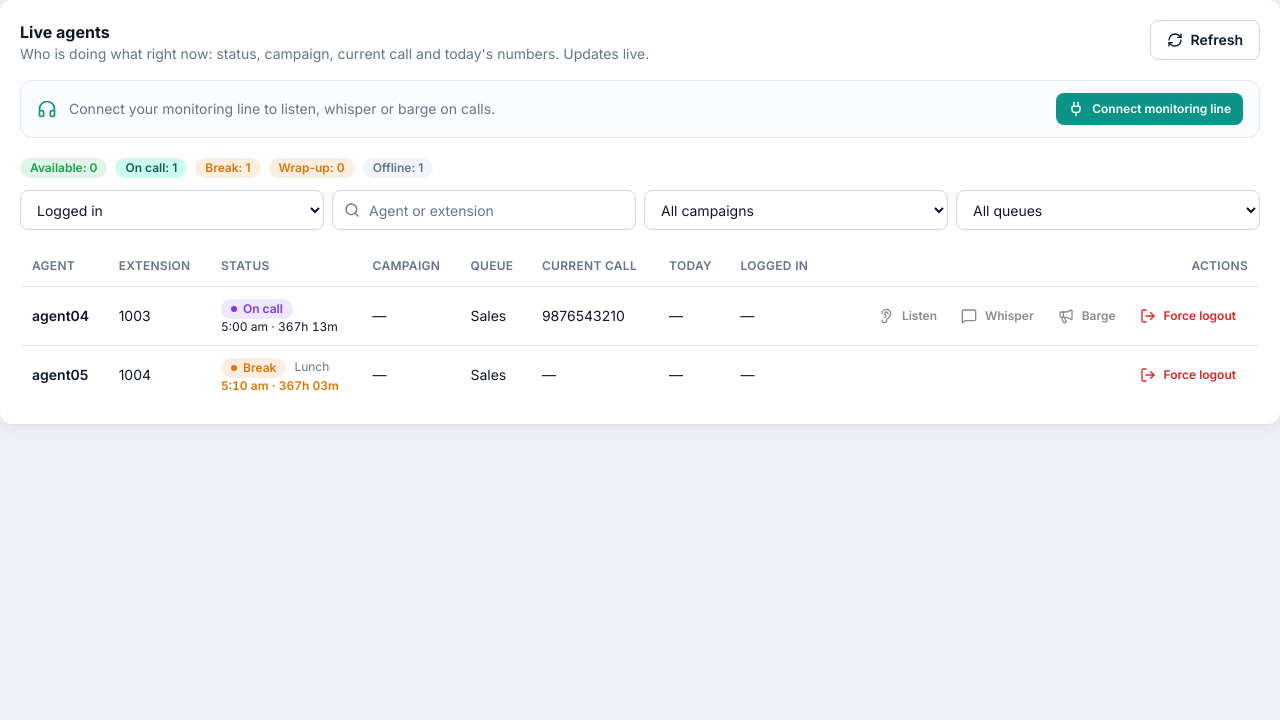
Test: Live Agents › Force logout: confirm, then the agent is taken offline; the server reason shows if refused
The image size is (1280, 720).
expect the text "agent04" is shown: met, box [32,306,95,326]
Select "All agents" in the dropdown named "Show" at [172, 210], box [20,190,324,230]
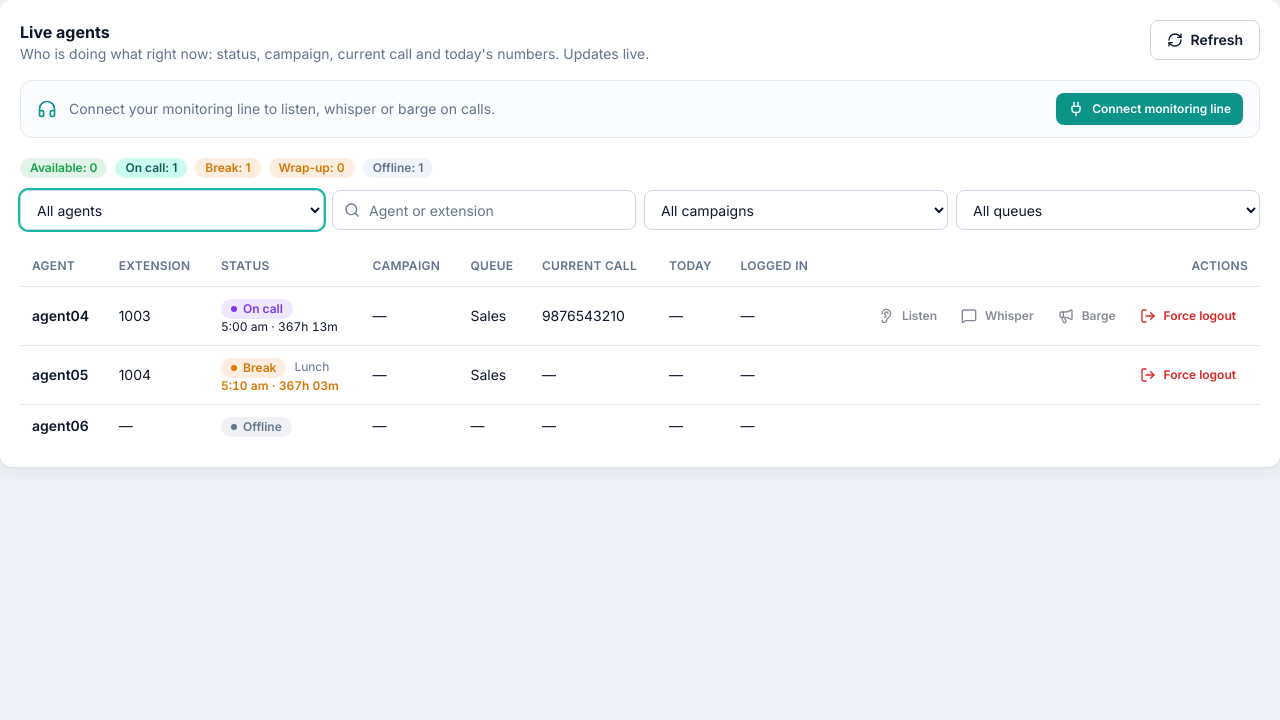
Click the button with aria-label "Force logout agent05".
click(1188, 374)  # box [1128,358,1248,390]
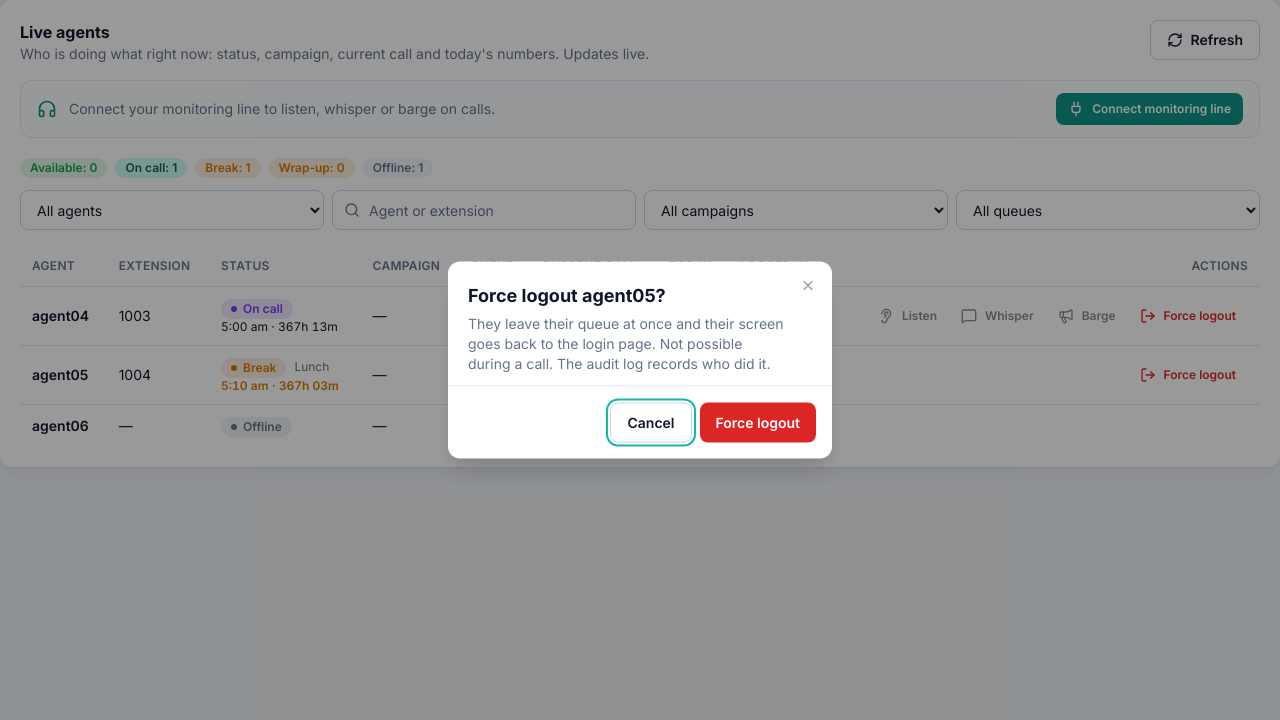
Click the button "Force logout".
click(758, 422)  # box [700,402,816,442]
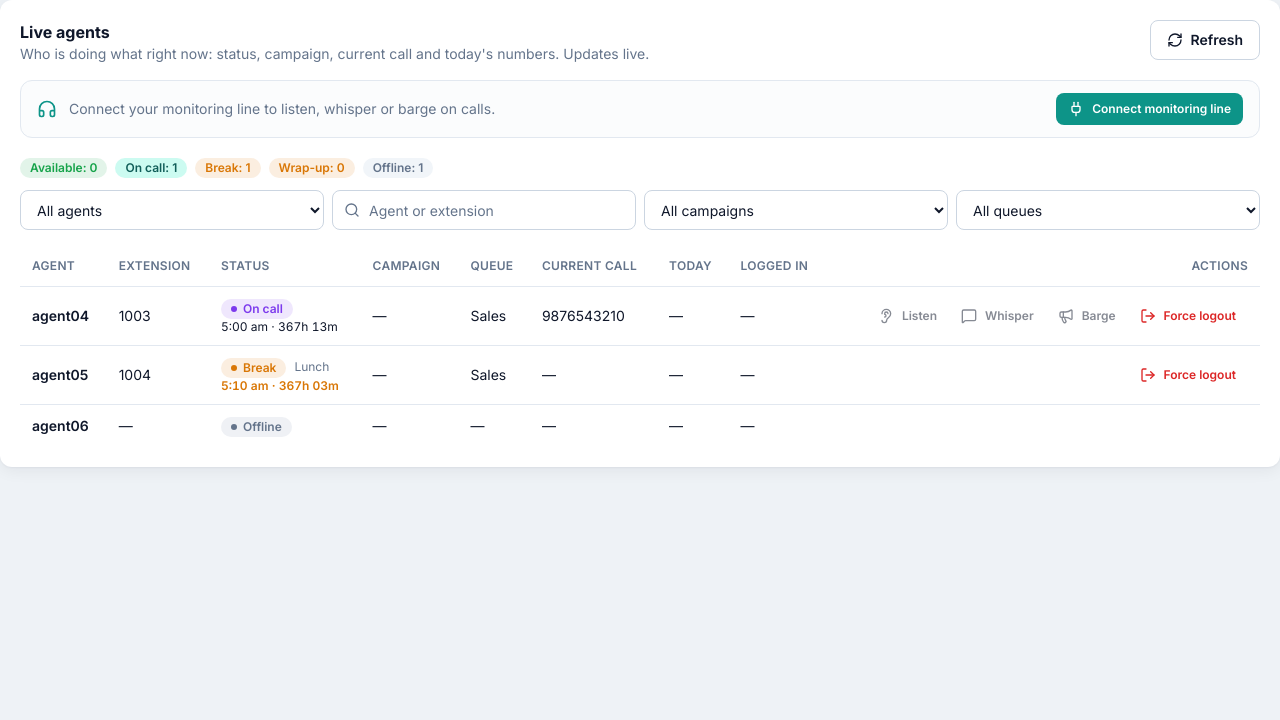
expect the dialog is gone: met
Click the button with aria-label "Force logout agent04".
click(1188, 316)  # box [1128,300,1248,332]
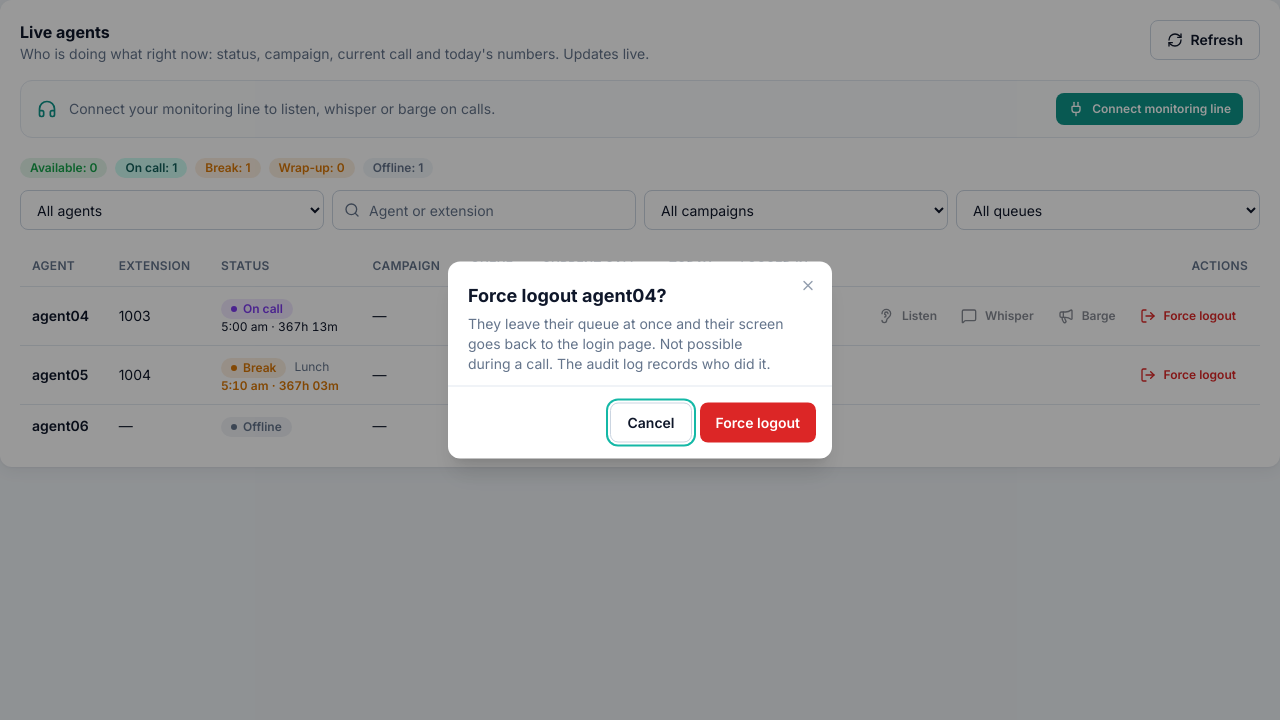
Click the button "Force logout".
click(758, 422)  # box [700,402,816,442]
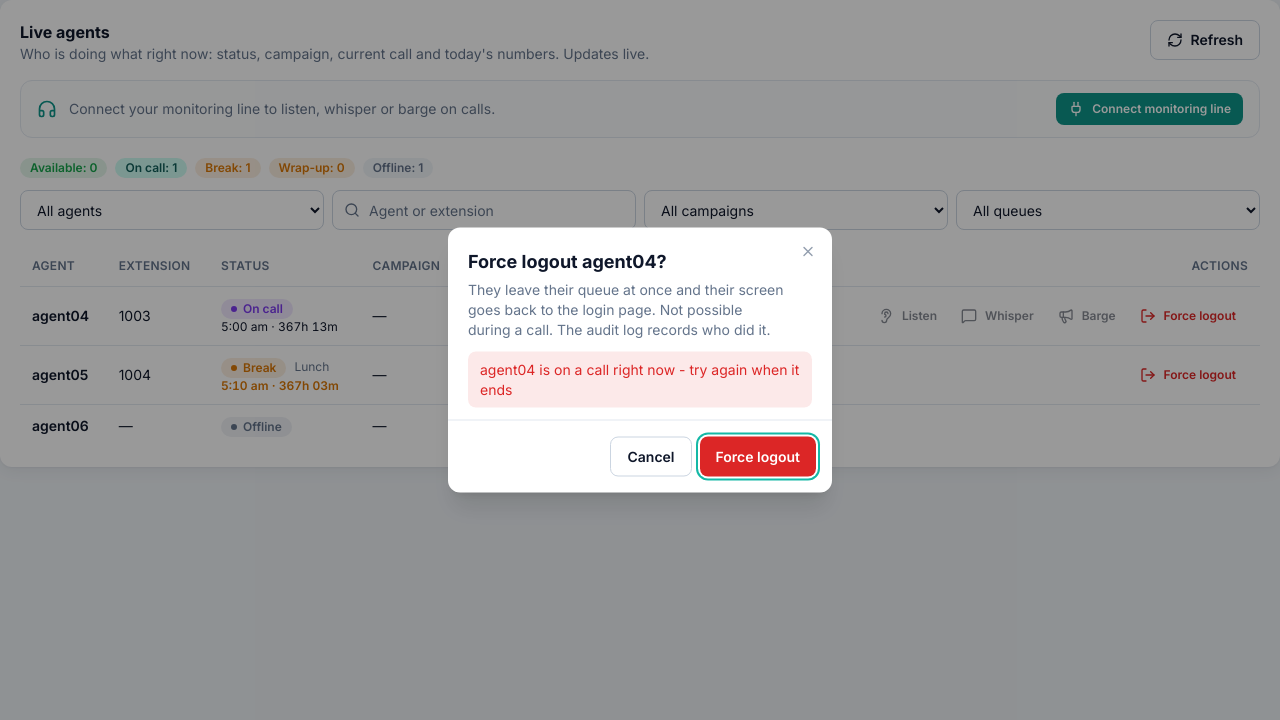
expect the message shows "on a call right now": met, box [480,360,799,398]
